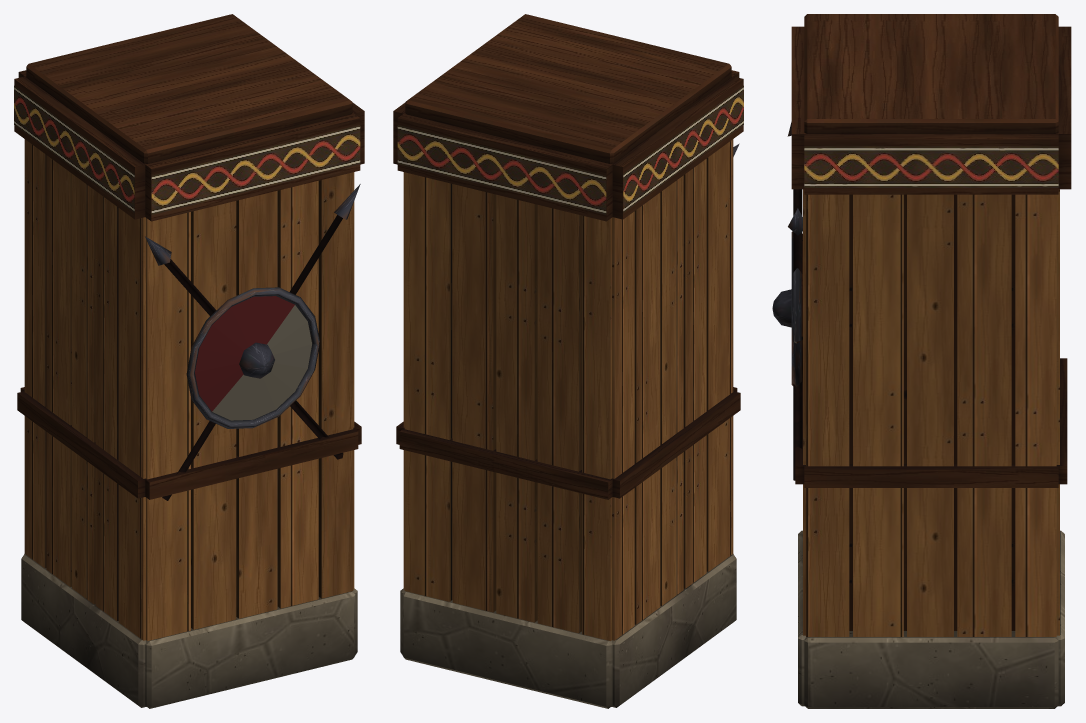
Rendered from interior_wall_hall.glb.
The picture shows the model from 3 angles, left to right: view 1: azimuth 30°, elevation 25°; view 2: azimuth 150°, elevation 25°; view 3: azimuth 270°, elevation 25°; orthographic projection. The views are drawn at different scales.
Parts seen in each view (by area): view 1: interior_wall_hall; view 2: interior_wall_hall; view 3: interior_wall_hall.
Part boxes in pixels (<box>): interior_wall_hall: <box>14,14,364,708</box>; interior_wall_hall: <box>393,14,743,708</box>; interior_wall_hall: <box>772,14,1071,708</box>.
Bounding box in the file's own units: 1.1 × 2.55 × 1.18.
6 materials, 5 textured.
